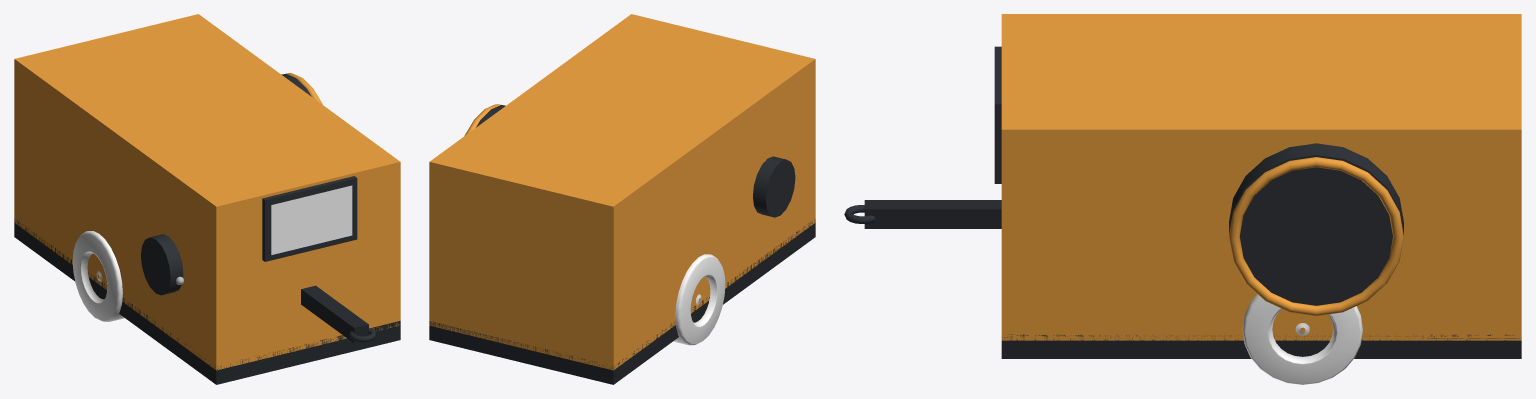
File: equipment--groundPowerUnit.glb
3 renders of one model, left to right at view 1: azimuth 30°, elevation 25°; view 2: azimuth 150°, elevation 25°; view 3: azimuth 270°, elevation 25°, orthographic. The views are drawn at different scales.
Visible parts, largest first — view 1: groundPowerUnit:shell, controlPanel, wheels, bondingReel, cableReel; view 2: groundPowerUnit:shell, wheels, bondingReel, cableReel; view 3: groundPowerUnit:shell, cableReel, wheels, controlPanel.
Part boxes in pixels (<box>): groundPowerUnit:shell: <box>14,14,400,384</box>; controlPanel: <box>262,176,357,261</box>; wheels: <box>72,231,124,321</box>; bondingReel: <box>141,234,183,295</box>; cableReel: <box>281,73,322,104</box>; groundPowerUnit:shell: <box>429,14,815,384</box>; wheels: <box>673,254,725,345</box>; bondingReel: <box>753,156,795,217</box>; cableReel: <box>464,104,505,135</box>; groundPowerUnit:shell: <box>844,14,1521,358</box>; cableReel: <box>1229,143,1403,315</box>; wheels: <box>1242,294,1362,384</box>; controlPanel: <box>994,46,1001,183</box>.
Size of the model in its own units: 1.21 by 1.03 by 2.47.
